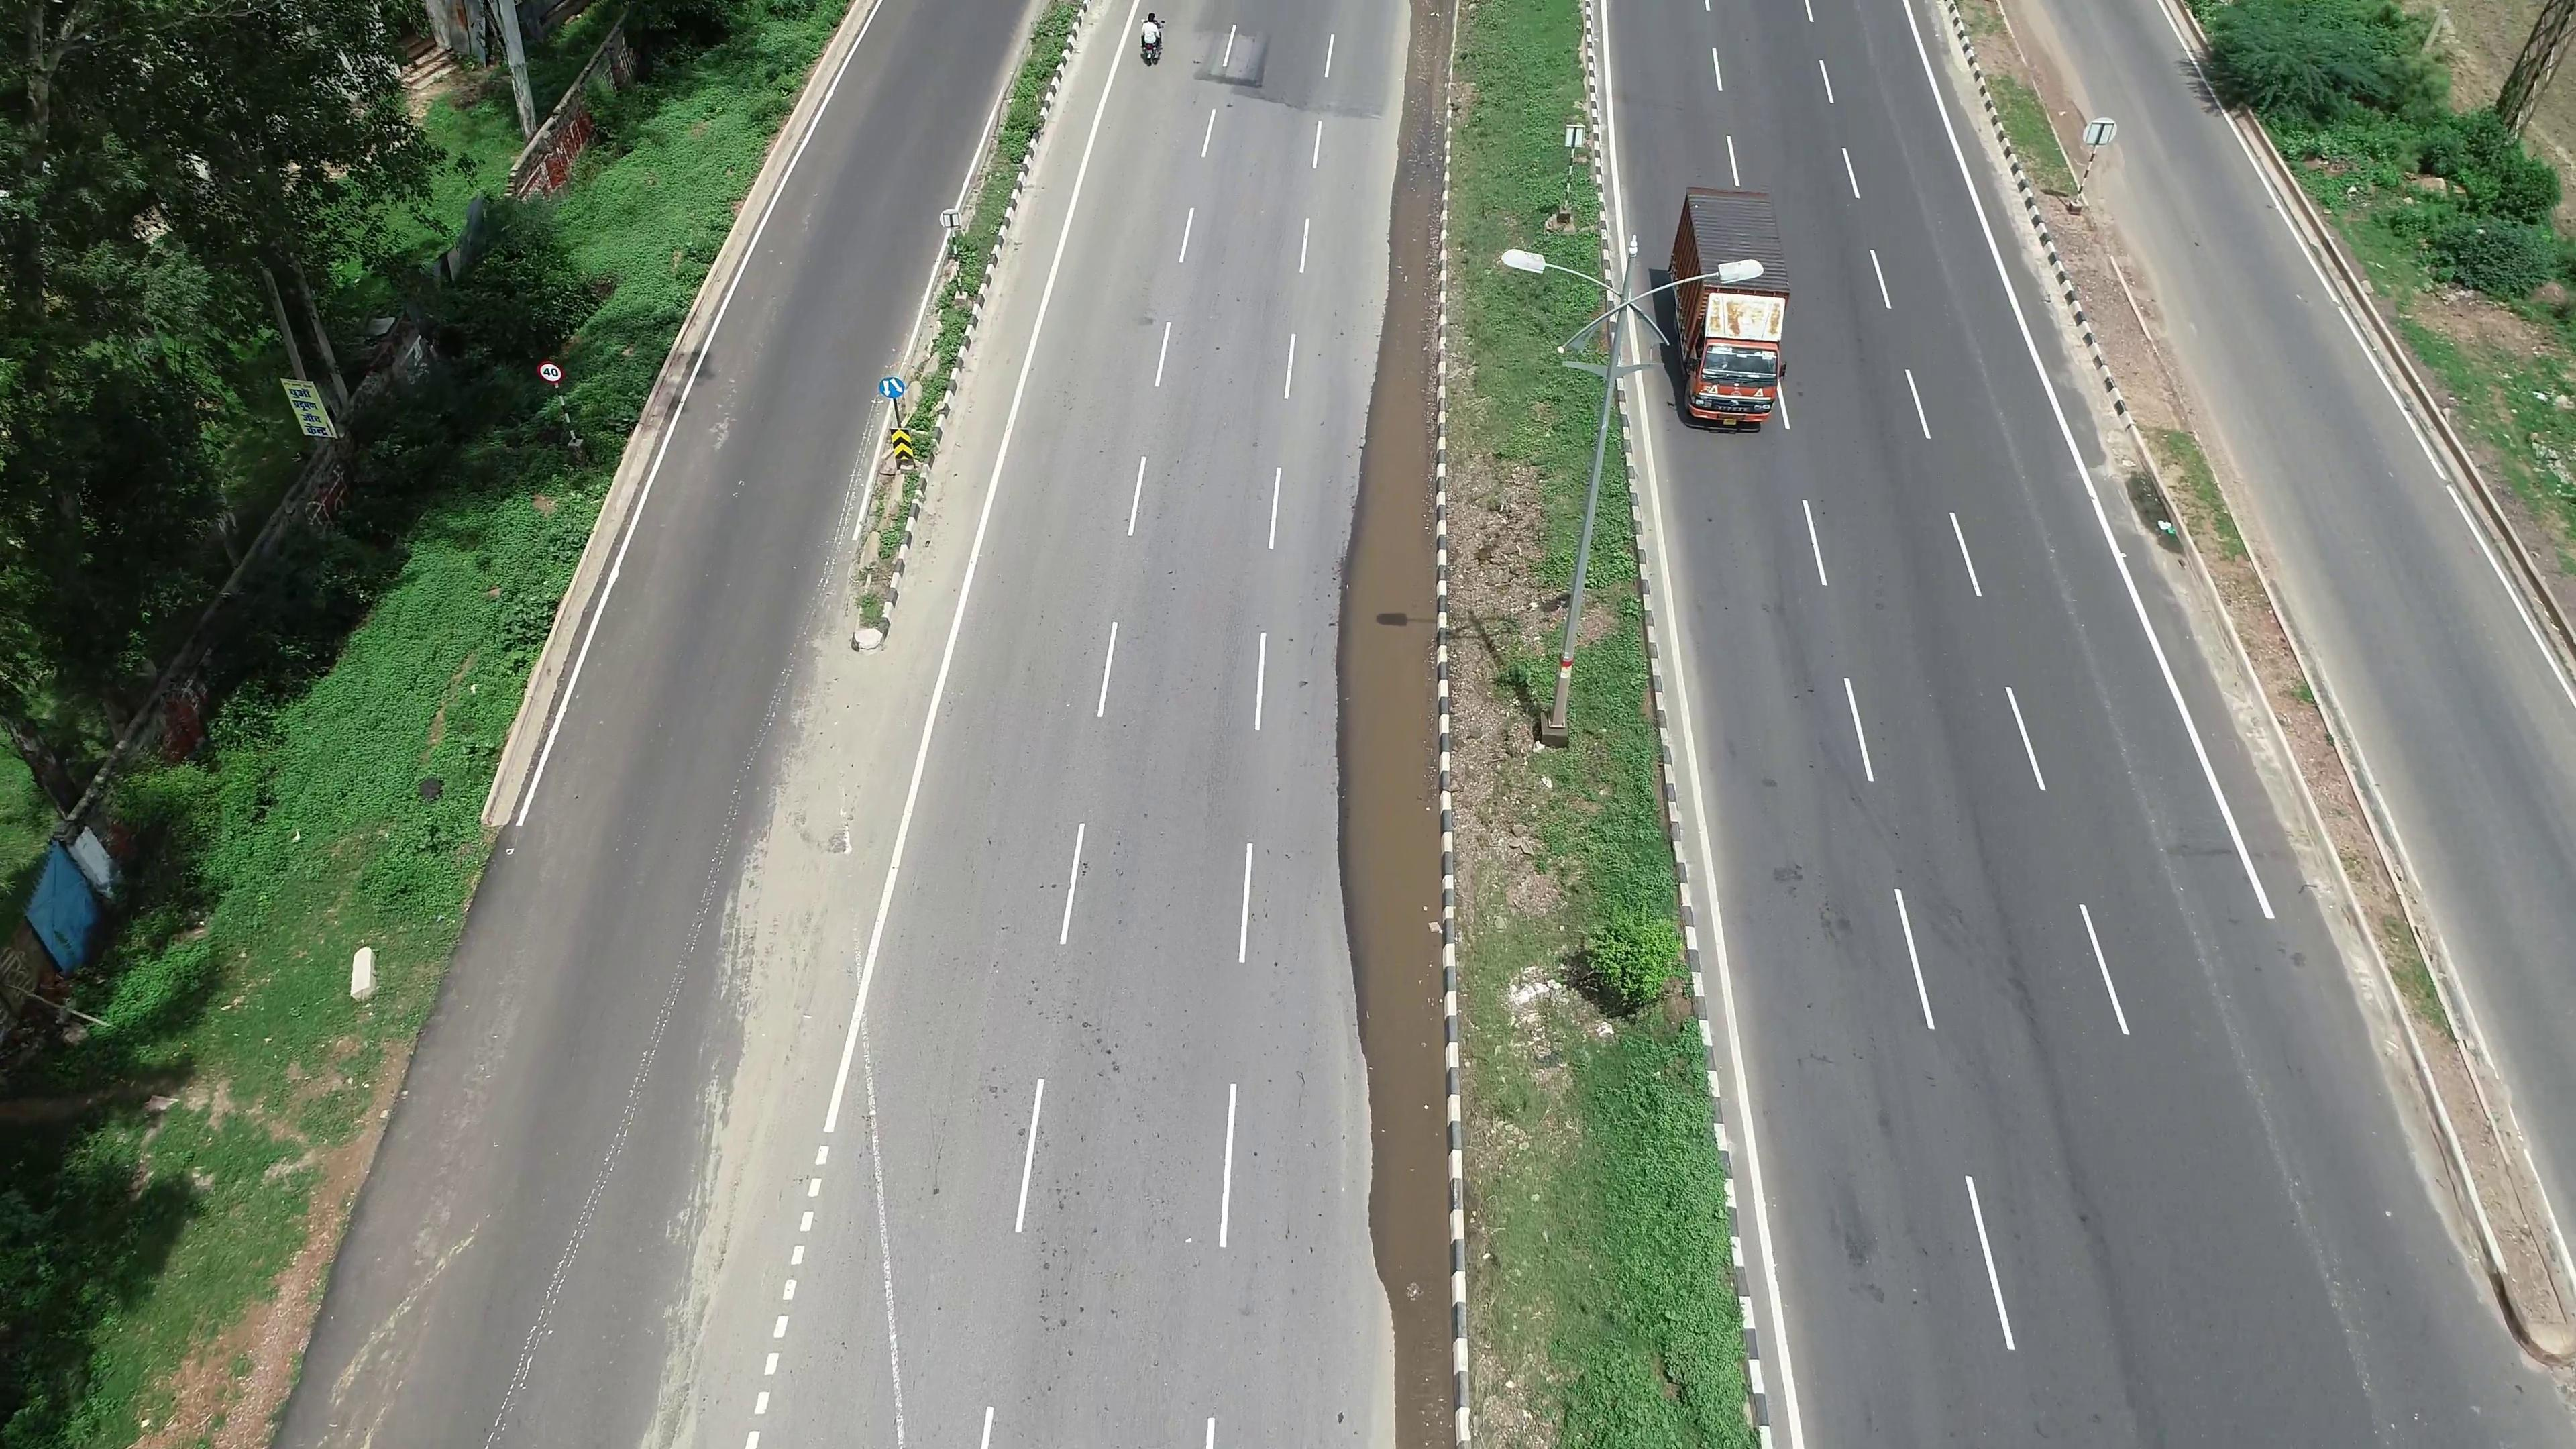Waterlogging: (1313, 202, 1447, 1154)
